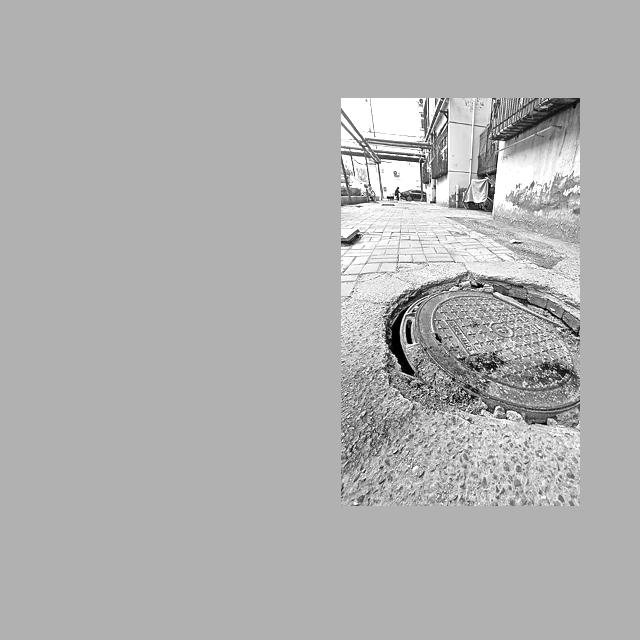circle: (372, 262, 579, 472)
